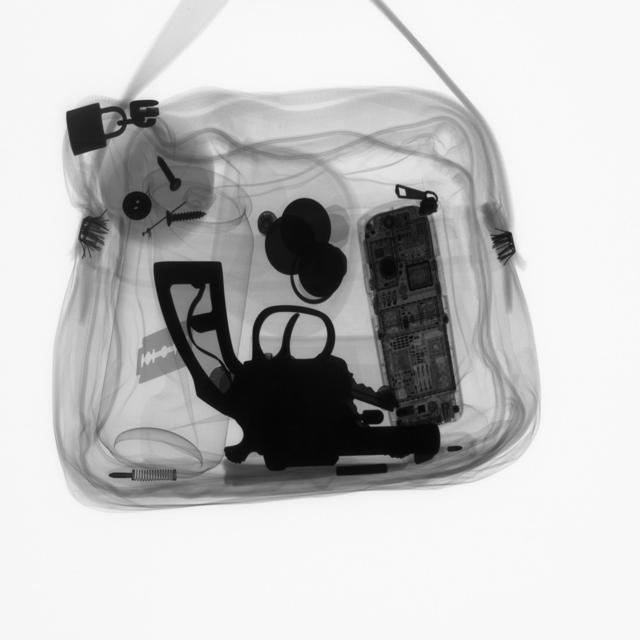gun: (152, 258, 454, 470)
razor: (130, 327, 185, 382)
snail: (161, 206, 217, 231), (159, 148, 180, 194)
